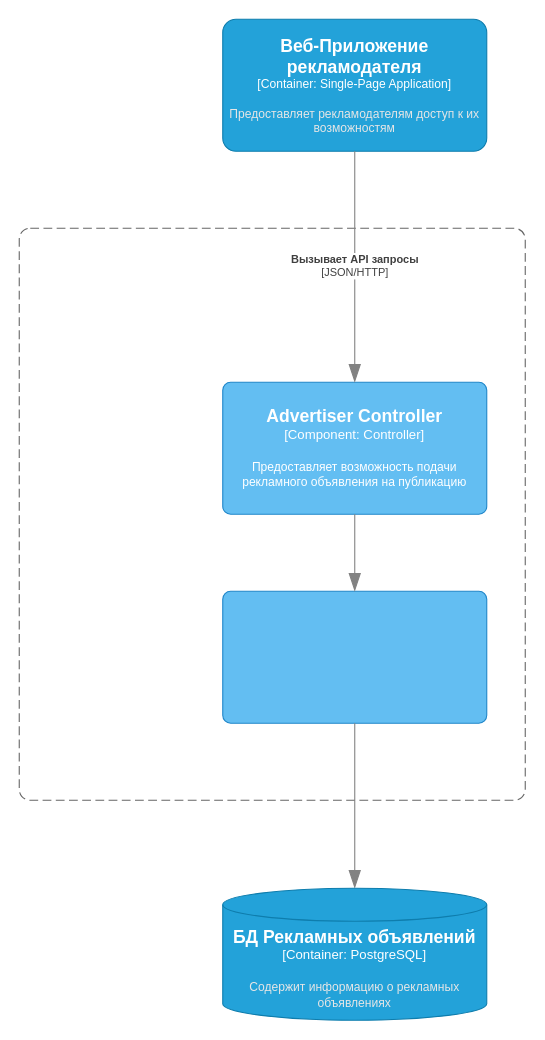
Some shapes in this 545 by 1040 pixel diagram are drawn without their labels. Here are the shapes that lost their labels. From the top down, the box of each, then its label:
(18, 227, 525, 800): API Рекламодатель [Container]
(222, 590, 487, 723): Advertiser Service [Component: Service]
